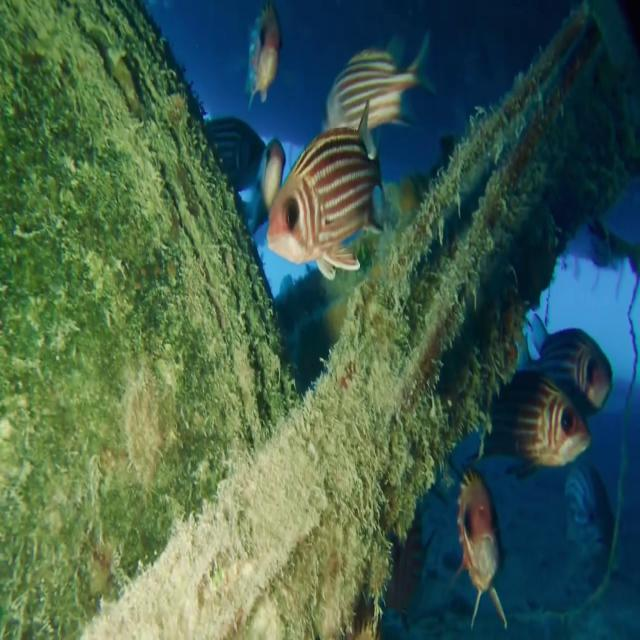Asker Baligi: (265, 98, 387, 282), (488, 375, 599, 489)
